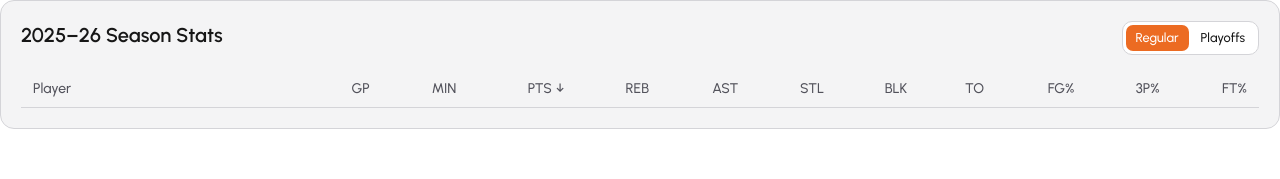
TeamSeasonStats › offers Playoffs for a finished season the team missed
Click the button "Playoffs".
click(1223, 38)  # box [1190,24,1256,52]
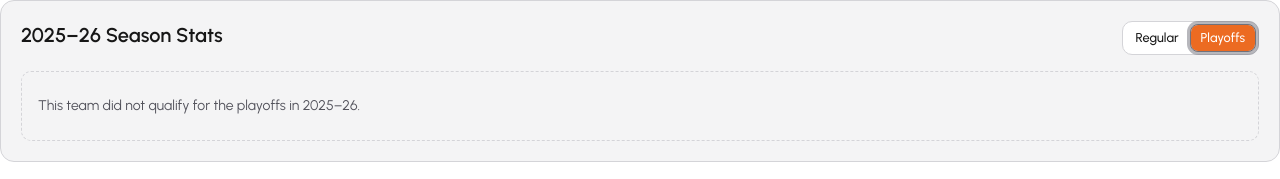
expect the text "This team did not qualify for the playoffs in 2025–26." is shown: met, box [21,71,1259,141]
